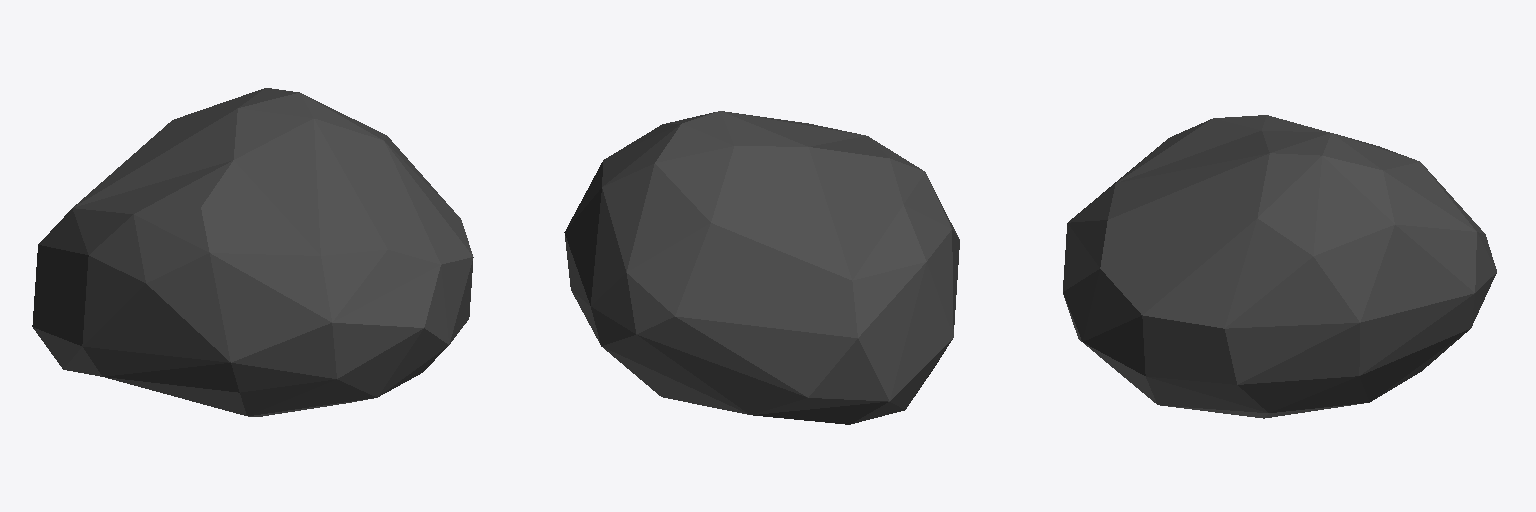
Rendered from rock_self.obj.
3 renders of one model, left to right at view 1: azimuth 30°, elevation 25°; view 2: azimuth 150°, elevation 25°; view 3: azimuth 270°, elevation 25°, orthographic.
Parts seen in each view (by area): view 1: Mesh group48 pasted__group47 pasted__pasted__group14 pasted__pas; view 2: Mesh group48 pasted__group47 pasted__pasted__group14 pasted__pas; view 3: Mesh group48 pasted__group47 pasted__pasted__group14 pasted__pas.
Part boxes in pixels (bbox=[...]): Mesh group48 pasted__group47 pasted__pasted__group14 pasted__pas: bbox=[32, 88, 473, 416]; Mesh group48 pasted__group47 pasted__pasted__group14 pasted__pas: bbox=[564, 111, 959, 424]; Mesh group48 pasted__group47 pasted__pasted__group14 pasted__pas: bbox=[1063, 115, 1496, 418].
Bounding box in the file's own units: 1.86 × 1.31 × 1.95.